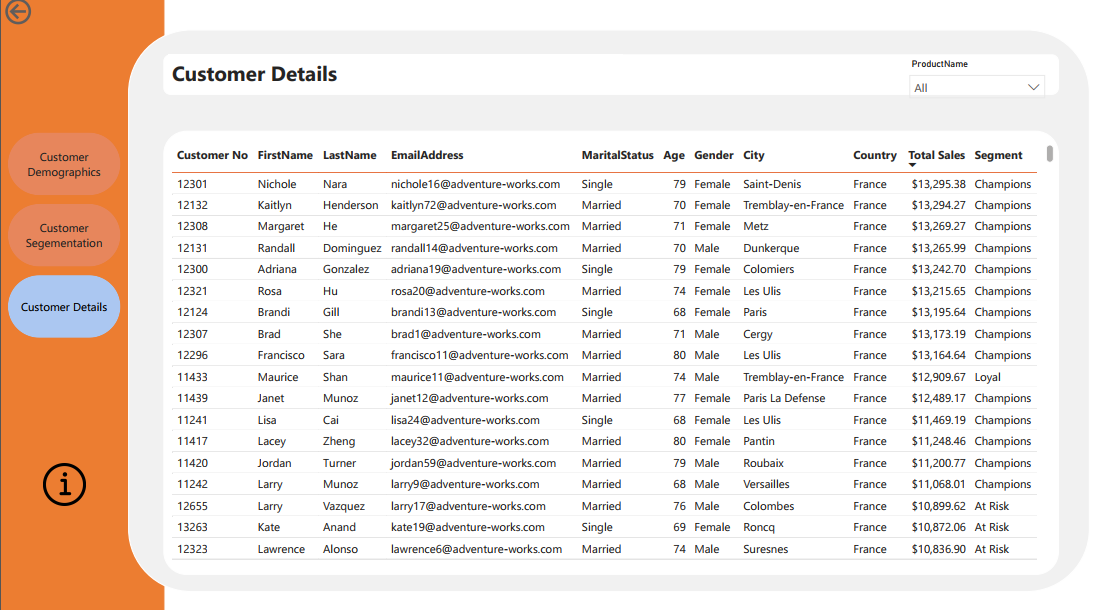

Layout of this report page (visuals, bound fields, positions):
{"tool":"powerbi","page":{"name":"Customer Details","canvas":[1280,720],"ordinal":2},"visuals":[{"type":"textbox","box":[194.3,70,528.6,45.7],"z":1},{"type":"tableEx","fields":{"Values":["DimCustomer.CustomerKey","DimCustomer.FirstName","DimCustomer.LastName","DimCustomer.EmailAddress","DimCustomer.MaritalStatus","Sum(DimCustomer.Age)","DimCustomer.Gender","DimGeography.City","DimGeography.Country","Sum(FactInternetSales.SalesAmount)","Segment Table.Segment"]},"box":[194.3,170,1035.7,492.9],"z":2},{"type":"slicer","fields":{"Values":["DimProduct.ProductName"]},"box":[1046.9,70,177.7,52.3],"z":3},{"type":"actionButton","box":[0,0,100,40],"z":4},{"type":"pageNavigator","box":[8.3,160.6,131.1,239.4],"z":5},{"type":"image","box":[43.8,523.8,58.8,93.8],"z":6}]}

Visuals, with their boxes in screenshot pixels (x1, y1, x2, y2), scaled from the page's 1280x720 canvas onto the 1093x610 screenshot:
textbox: {"left": 166, "top": 59, "right": 617, "bottom": 98}
tableEx - DimCustomer.CustomerKey x DimCustomer.FirstName: {"left": 166, "top": 144, "right": 1050, "bottom": 562}
slicer - DimProduct.ProductName: {"left": 894, "top": 59, "right": 1046, "bottom": 104}
actionButton: {"left": 0, "top": 0, "right": 85, "bottom": 34}
pageNavigator: {"left": 7, "top": 136, "right": 119, "bottom": 339}
image: {"left": 37, "top": 444, "right": 88, "bottom": 523}
